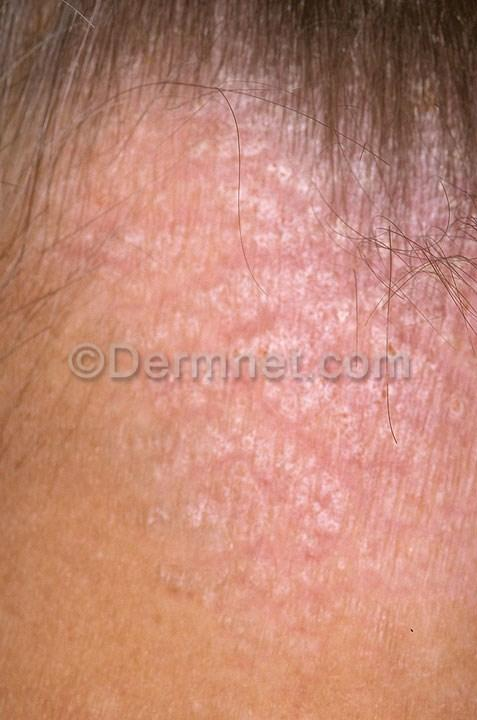Eczema: (41, 10, 477, 655)
